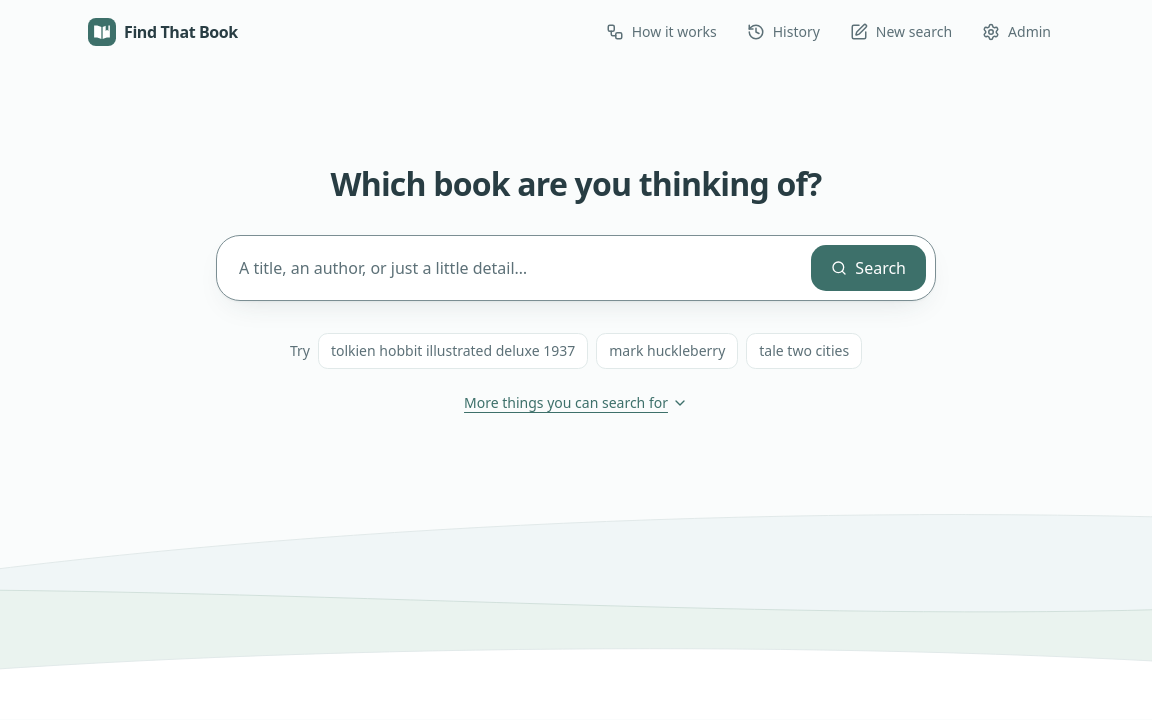
Test: suggestions › keeps the shown list (marked busy) while the next prefix loads, then replaces it, and closes when nothing matches
In the dropdown named "Describe the book": coordinates (518, 268) x1=233 y1=244 x2=802 y2=292, type "har"
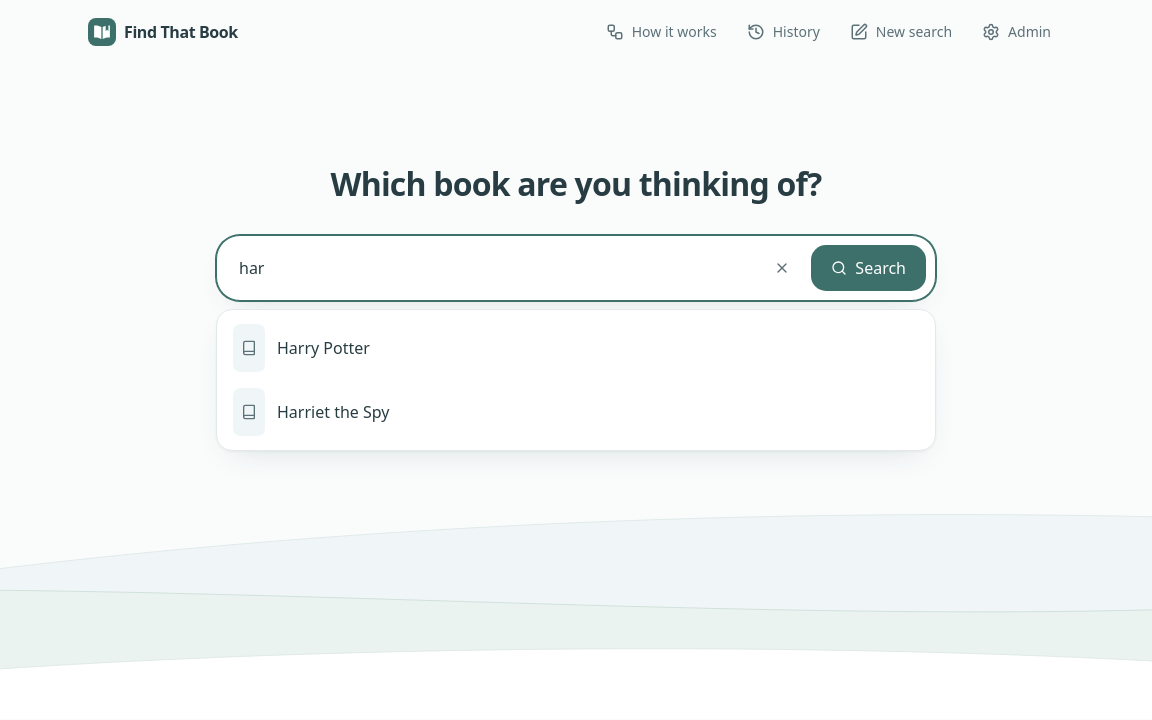
Check: the option "Harry Potter" is shown, box x1=233 y1=324 x2=370 y2=372
In the dropdown named "Describe the book": coordinates (494, 268) x1=233 y1=244 x2=754 y2=292, type "r"
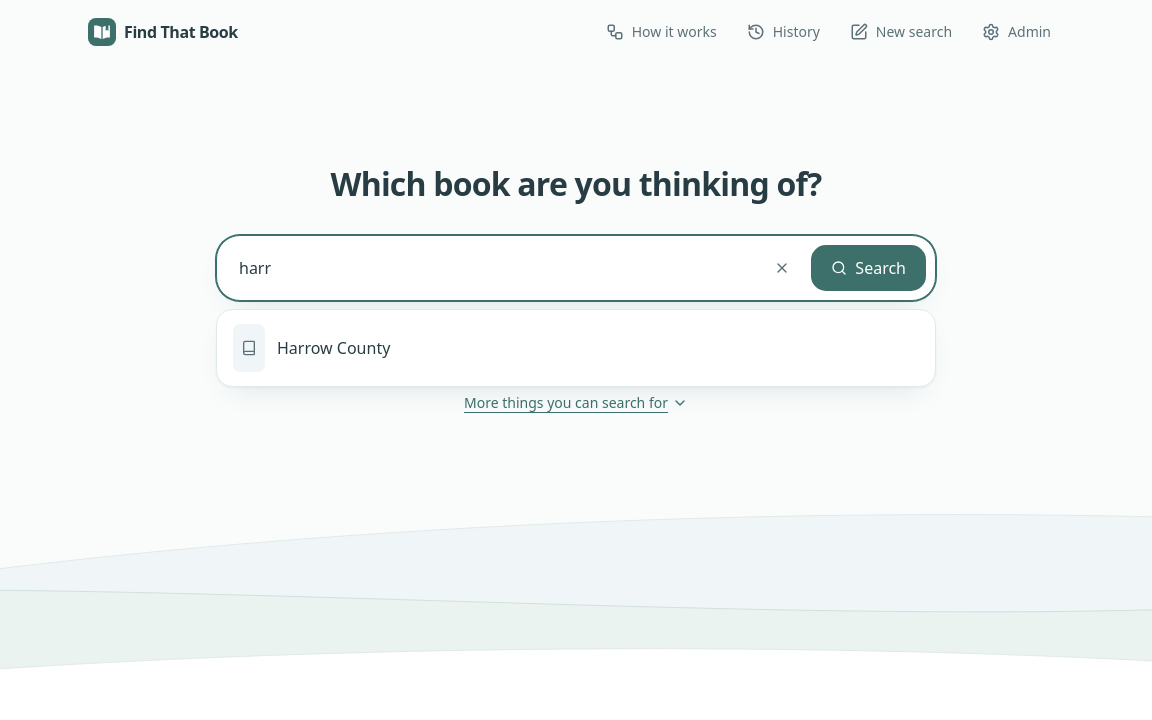
Check: the element showing "Harrow County" is shown, box x1=216 y1=309 x2=936 y2=387
Check: the option "Harrow County" is shown, box x1=233 y1=324 x2=390 y2=372
Check: the option "Harry Potter" is gone
In the dropdown named "Describe the book": coordinates (494, 268) x1=233 y1=244 x2=754 y2=292, type "x"
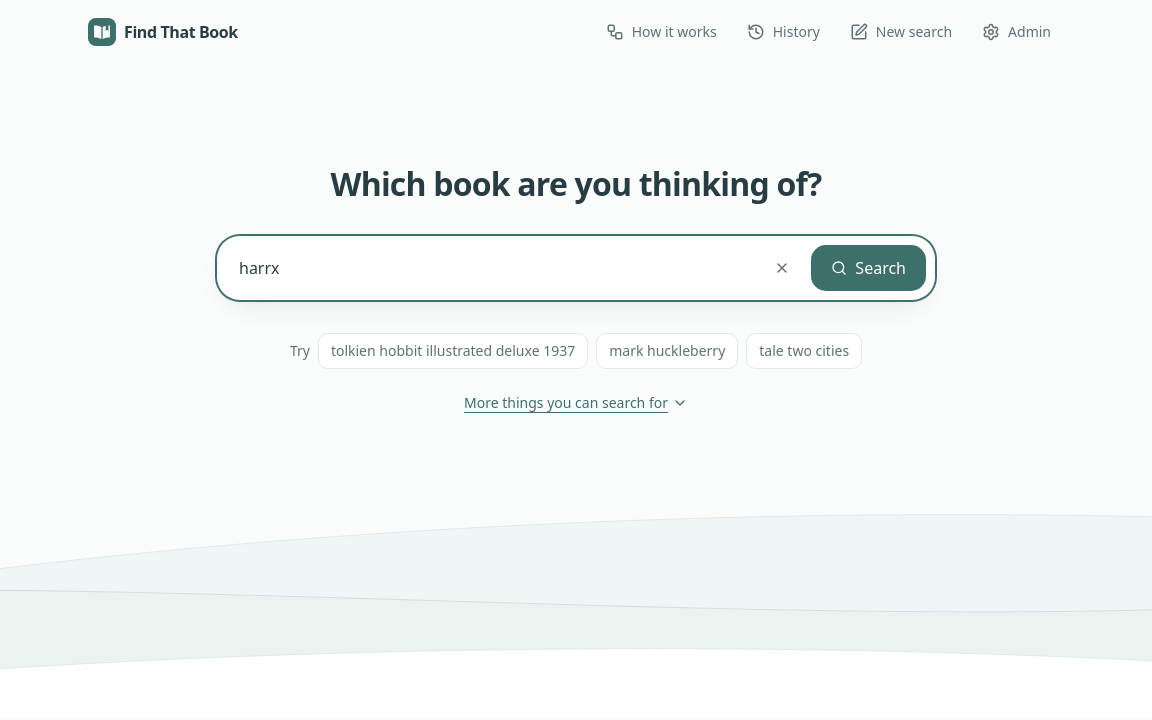
Check: the list is gone
Check: the dropdown named "Describe the book" is collapsed, box x1=233 y1=244 x2=754 y2=292
